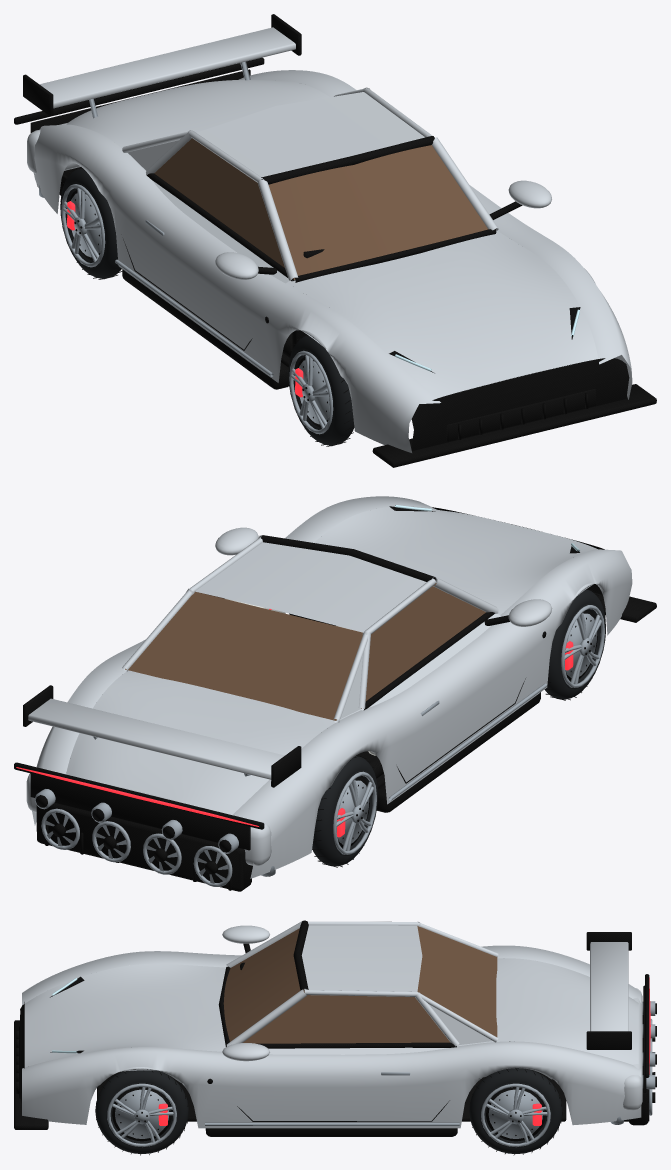
The model's file is DR_Asterion_LOD1.fbx.
3 renders of one model, top to bottom at view 1: azimuth 30°, elevation 25°; view 2: azimuth 150°, elevation 25°; view 3: azimuth 270°, elevation 25°, orthographic. The views are drawn at different scales.
Visible parts, largest first — view 1: DR_Asterion_Roadster__DR_PearlAlloy, DR_Asterion_Roadster__DR_CopperSmokedGlass, DR_Asterion_Roadster__DR_CarbonComposite, AeroWing__DR_PearlAlloy, Wheel_FL__DR_PerformanceRubber, Wheel_RL__DR_BrushedTitanium, Wheel_FL__DR_BrushedTitanium, Wheel_RL__DR_PerformanceRubber, AeroWing__DR_CarbonComposite, DR_Asterion_Roadster__DR_BrushedTitanium; view 2: DR_Asterion_Roadster__DR_PearlAlloy, DR_Asterion_Roadster__DR_CopperSmokedGlass, DR_Asterion_Roadster__DR_CarbonComposite, AeroWing__DR_PearlAlloy, DR_Asterion_Roadster__DR_BrushedTitanium, Wheel_RL__DR_PerformanceRubber, Wheel_RL__DR_BrushedTitanium, Wheel_FL__DR_BrushedTitanium, Wheel_FL__DR_PerformanceRubber, AeroWing__DR_CarbonComposite, DR_Asterion_Roadster__DR_RedLED; view 3: DR_Asterion_Roadster__DR_PearlAlloy, DR_Asterion_Roadster__DR_CopperSmokedGlass, DR_Asterion_Roadster__DR_CarbonComposite, AeroWing__DR_PearlAlloy, Wheel_RR__DR_PerformanceRubber, Wheel_FR__DR_PerformanceRubber, Wheel_FR__DR_BrushedTitanium, Wheel_RR__DR_BrushedTitanium, DR_Asterion_Roadster__DR_BrushedTitanium, AeroWing__DR_CarbonComposite, Wheel_RR__DR_CarbonComposite, Wheel_FR__DR_CarbonComposite.
Part boxes in pixels (left/top/right/bottom): DR_Asterion_Roadster__DR_PearlAlloy: left=27, top=70, right=632, bottom=452; DR_Asterion_Roadster__DR_CopperSmokedGlass: left=154, top=138, right=488, bottom=279; DR_Asterion_Roadster__DR_CarbonComposite: left=14, top=57, right=656, bottom=467; AeroWing__DR_PearlAlloy: left=39, top=27, right=295, bottom=108; Wheel_FL__DR_PerformanceRubber: left=288, top=335, right=354, bottom=445; Wheel_RL__DR_BrushedTitanium: left=61, top=184, right=105, bottom=267; Wheel_FL__DR_BrushedTitanium: left=289, top=350, right=333, bottom=434; Wheel_RL__DR_PerformanceRubber: left=60, top=167, right=121, bottom=278; AeroWing__DR_CarbonComposite: left=23, top=14, right=301, bottom=116; DR_Asterion_Roadster__DR_BrushedTitanium: left=39, top=185, right=273, bottom=376; DR_Asterion_Roadster__DR_PearlAlloy: left=26, top=496, right=632, bottom=878; DR_Asterion_Roadster__DR_CopperSmokedGlass: left=125, top=583, right=485, bottom=720; DR_Asterion_Roadster__DR_CarbonComposite: left=14, top=506, right=656, bottom=891; AeroWing__DR_PearlAlloy: left=28, top=698, right=284, bottom=779; DR_Asterion_Roadster__DR_BrushedTitanium: left=35, top=683, right=547, bottom=886; Wheel_RL__DR_PerformanceRubber: left=312, top=756, right=377, bottom=866; Wheel_RL__DR_BrushedTitanium: left=333, top=771, right=376, bottom=854; Wheel_FL__DR_BrushedTitanium: left=561, top=605, right=604, bottom=687; Wheel_FL__DR_PerformanceRubber: left=545, top=589, right=605, bottom=699; AeroWing__DR_CarbonComposite: left=23, top=685, right=301, bottom=787; DR_Asterion_Roadster__DR_RedLED: left=16, top=609, right=271, bottom=826; DR_Asterion_Roadster__DR_PearlAlloy: left=22, top=920, right=642, bottom=1128; DR_Asterion_Roadster__DR_CopperSmokedGlass: left=223, top=926, right=497, bottom=1043; DR_Asterion_Roadster__DR_CarbonComposite: left=14, top=920, right=656, bottom=1136; AeroWing__DR_PearlAlloy: left=590, top=942, right=628, bottom=1031; Wheel_RR__DR_PerformanceRubber: left=469, top=1068, right=562, bottom=1153; Wheel_FR__DR_PerformanceRubber: left=95, top=1070, right=188, bottom=1153; Wheel_FR__DR_BrushedTitanium: left=107, top=1083, right=176, bottom=1147; Wheel_RR__DR_BrushedTitanium: left=481, top=1083, right=550, bottom=1147; DR_Asterion_Roadster__DR_BrushedTitanium: left=205, top=1001, right=655, bottom=1125; AeroWing__DR_CarbonComposite: left=586, top=932, right=631, bottom=1049; Wheel_RR__DR_CarbonComposite: left=469, top=1068, right=562, bottom=1155; Wheel_FR__DR_CarbonComposite: left=95, top=1070, right=188, bottom=1155.
Size of the model in its own units: 231 by 126 by 482.
Materials: 9 (1 with a texture image).
